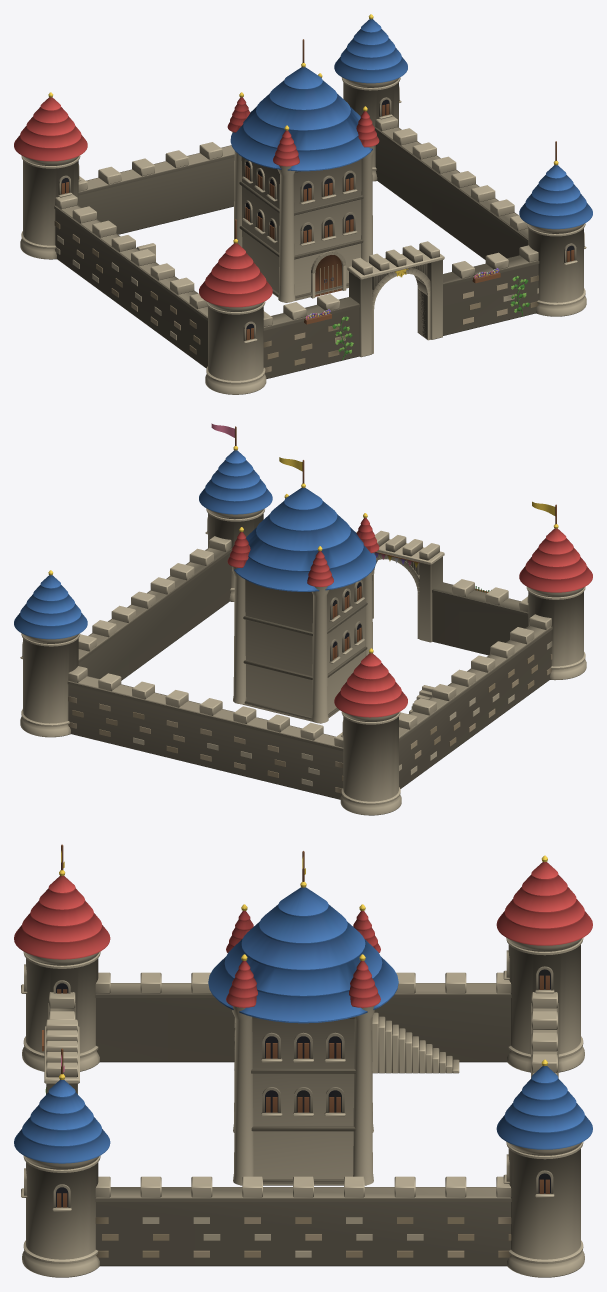
The model's file is castillo-C0BytGz8.glb.
The picture shows the model from 3 angles, top to bottom: view 1: azimuth 30°, elevation 25°; view 2: azimuth 150°, elevation 25°; view 3: azimuth 270°, elevation 25°; orthographic projection. The views are drawn at different scales.
Visible parts, largest first — view 1: Piedra miel, Tejados esmaltados, Molduras y dovelas, Carpintería, Ventanas y herrajes, Hiedra, Flores y emblemas; view 2: Piedra miel, Tejados esmaltados, Molduras y dovelas, Carpintería; view 3: Piedra miel, Tejados esmaltados, Molduras y dovelas, Carpintería, Ventanas y herrajes.
Part boxes in pixels (<box>): Piedra miel: <box>20,78,586,394</box>; Tejados esmaltados: <box>14,19,592,307</box>; Molduras y dovelas: <box>21,77,586,384</box>; Carpintería: <box>61,39,574,340</box>; Ventanas y herrajes: <box>61,99,574,339</box>; Hiedra: <box>309,272,529,360</box>; Flores y emblemas: <box>48,14,558,319</box>; Piedra miel: <box>20,509,586,815</box>; Tejados esmaltados: <box>14,450,592,717</box>; Molduras y dovelas: <box>20,508,585,804</box>; Carpintería: <box>235,426,556,659</box>; Piedra miel: <box>22,938,584,1277</box>; Tejados esmaltados: <box>14,862,592,1163</box>; Molduras y dovelas: <box>21,938,583,1263</box>; Carpintería: <box>42,844,549,1207</box>; Ventanas y herrajes: <box>56,969,550,1207</box>.
Bounding box in the file's own units: 45.58 × 26.8 × 45.58.
